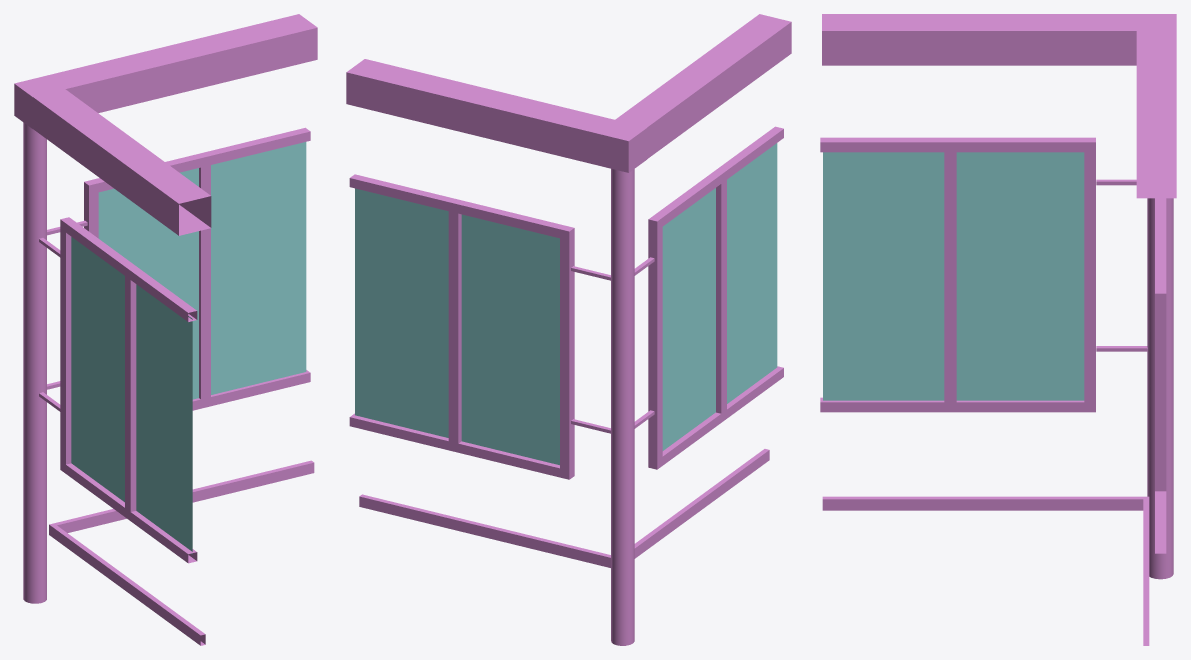
Rendered from sub_Handrail_coner.fbx.
3 renders of one model, left to right at view 1: azimuth 30°, elevation 25°; view 2: azimuth 150°, elevation 25°; view 3: azimuth 270°, elevation 25°, orthographic. The views are drawn at different scales.
Parts seen in each view (by area): view 1: sub_Handrail_coner; view 2: sub_Handrail_coner; view 3: sub_Handrail_coner.
Part boxes in pixels (x1,y1,x2,y2): sub_Handrail_coner: (14, 14, 317, 645); sub_Handrail_coner: (346, 14, 791, 645); sub_Handrail_coner: (820, 14, 1176, 645).
Size of the model in its own units: 1.06 by 1.81 by 1.06.
